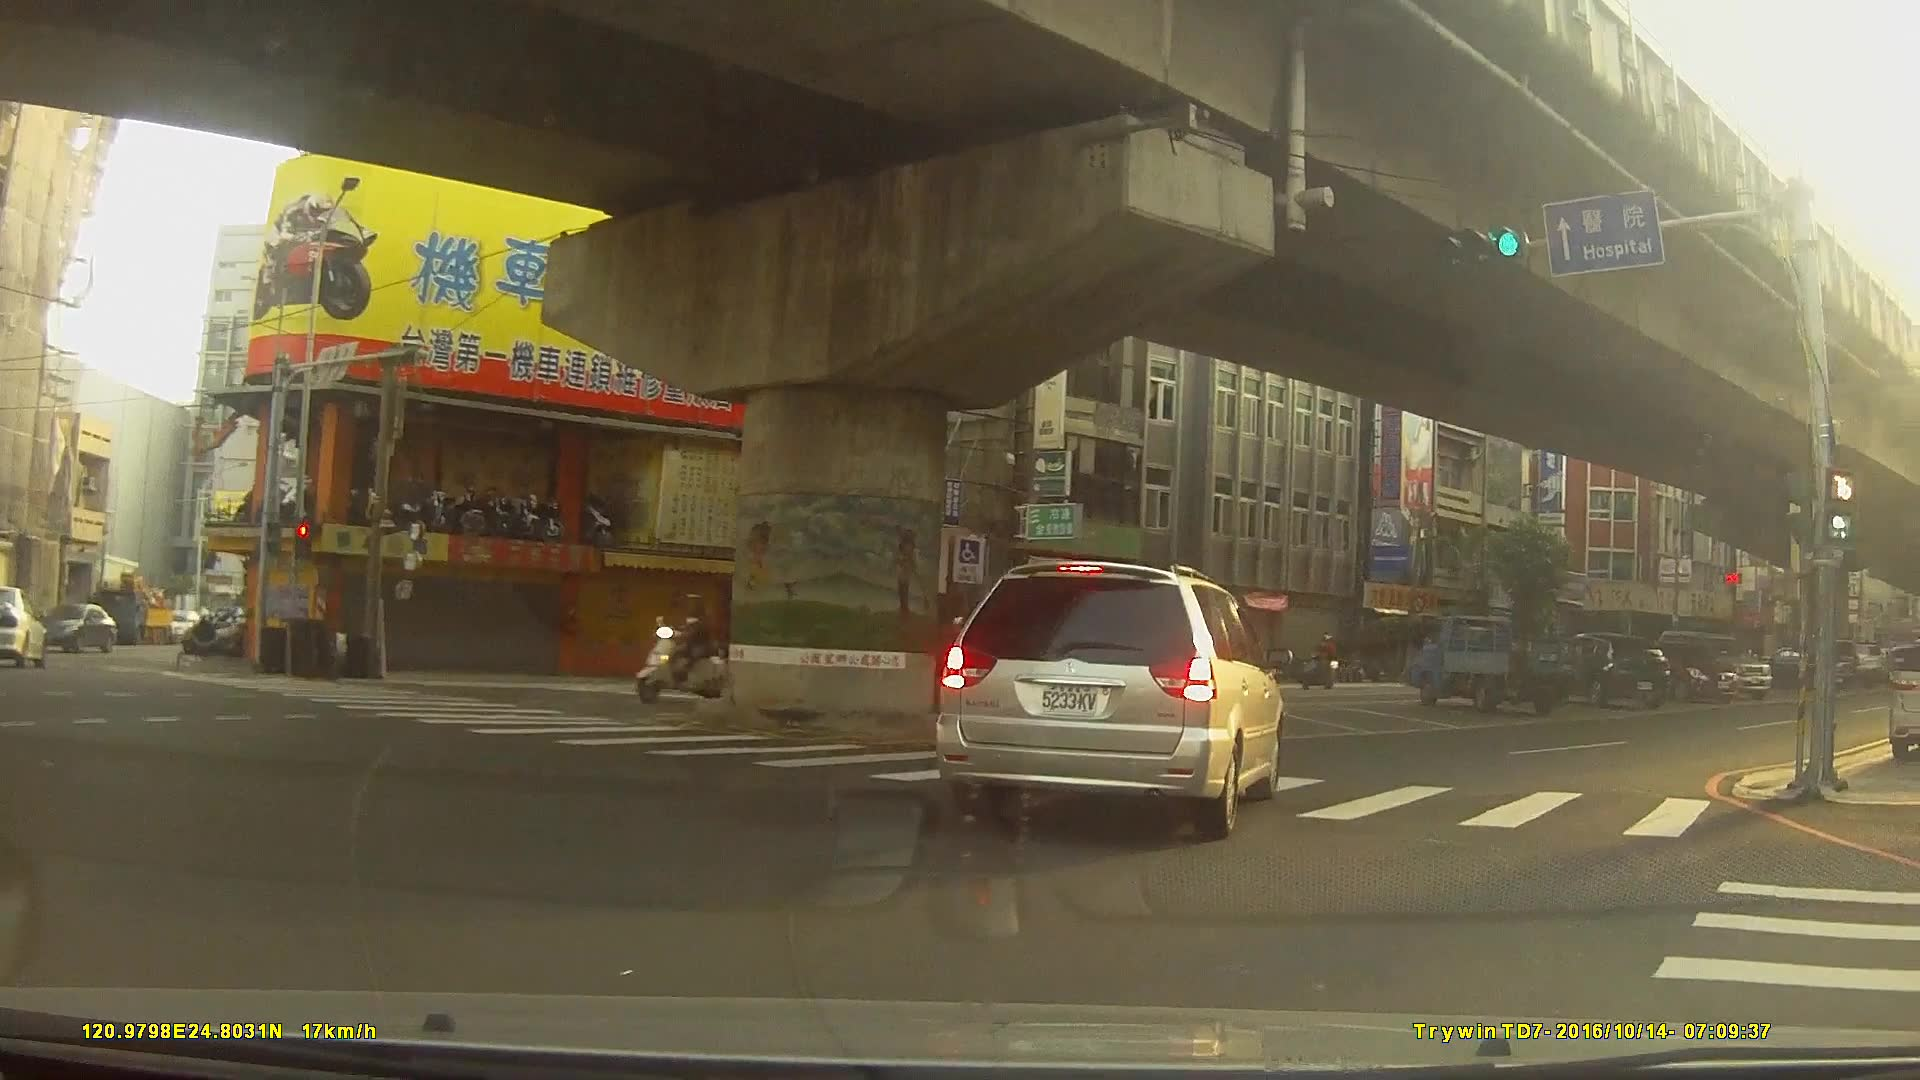rider: (637, 594, 731, 704), (1302, 635, 1339, 689)
vehicle: (931, 560, 1284, 840), (1401, 613, 1578, 715), (1537, 629, 1668, 708), (1631, 639, 1742, 703), (38, 600, 115, 653), (0, 583, 47, 667)
